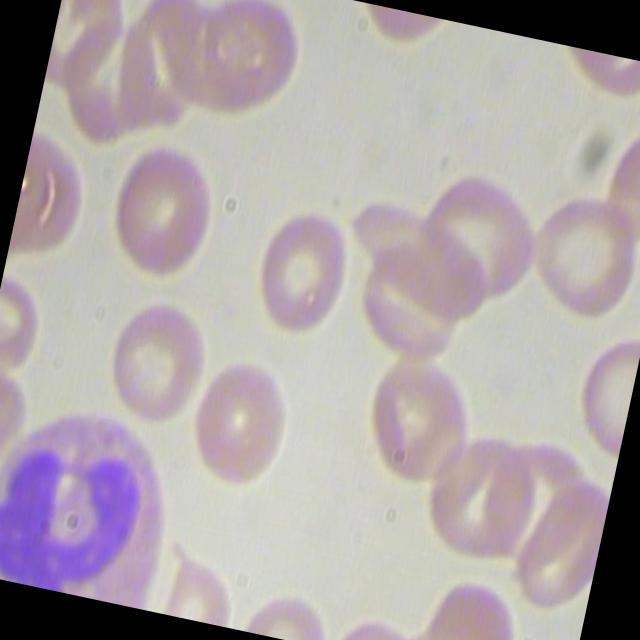RBC: (397, 152, 553, 326), (322, 182, 504, 330), (328, 337, 496, 497), (89, 130, 228, 294), (414, 408, 554, 570), (175, 340, 310, 500), (513, 171, 640, 335), (238, 194, 360, 348), (178, 0, 317, 135), (95, 282, 216, 436), (411, 558, 533, 640)
WBC: (0, 388, 191, 610)
